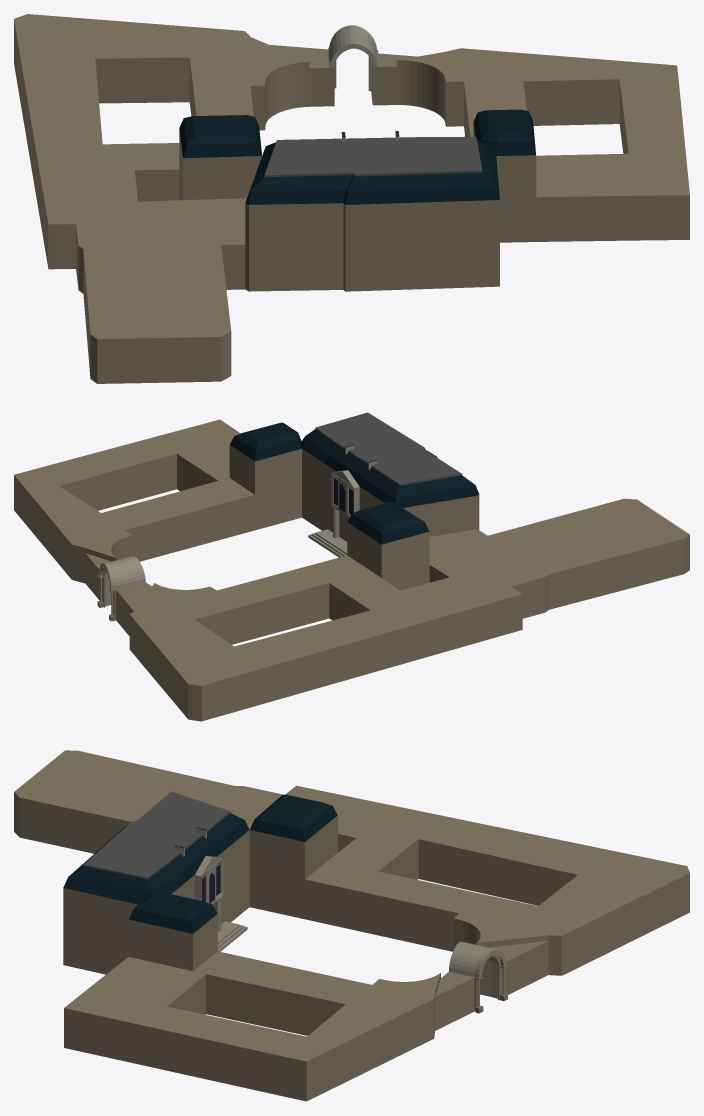
Rendered from Palai.fbx.
The picture shows the model from 3 angles, top to bottom: view 1: azimuth 30°, elevation 25°; view 2: azimuth 150°, elevation 25°; view 3: azimuth 270°, elevation 25°; orthographic projection. The views are drawn at different scales.
Parts seen in each view (by area): view 1: Secondary.001, Main.001, Arch; view 2: Secondary.001, Main.001, Arch, Stairs; view 3: Secondary.001, Main.001, Arch, Stairs.
Part boxes in pixels (x1,y1,x2,y2): Secondary.001: (14, 14, 689, 383); Main.001: (245, 136, 499, 291); Arch: (270, 25, 416, 106); Secondary.001: (14, 419, 689, 721); Main.001: (301, 412, 479, 541); Arch: (85, 553, 151, 635); Stairs: (308, 529, 347, 557); Secondary.001: (14, 750, 689, 1101); Main.001: (63, 791, 249, 974); Arch: (435, 941, 548, 1030); Stairs: (217, 921, 247, 951).
Size of the model in its own units: 4911 by 759 by 4509.
